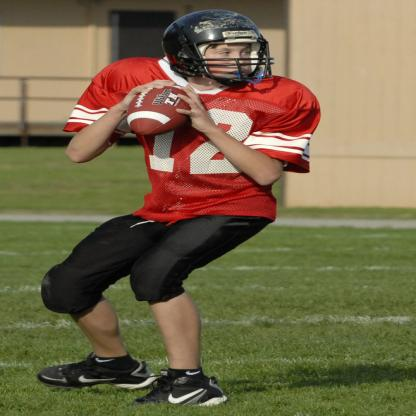Helmet: (161, 8, 274, 87)
